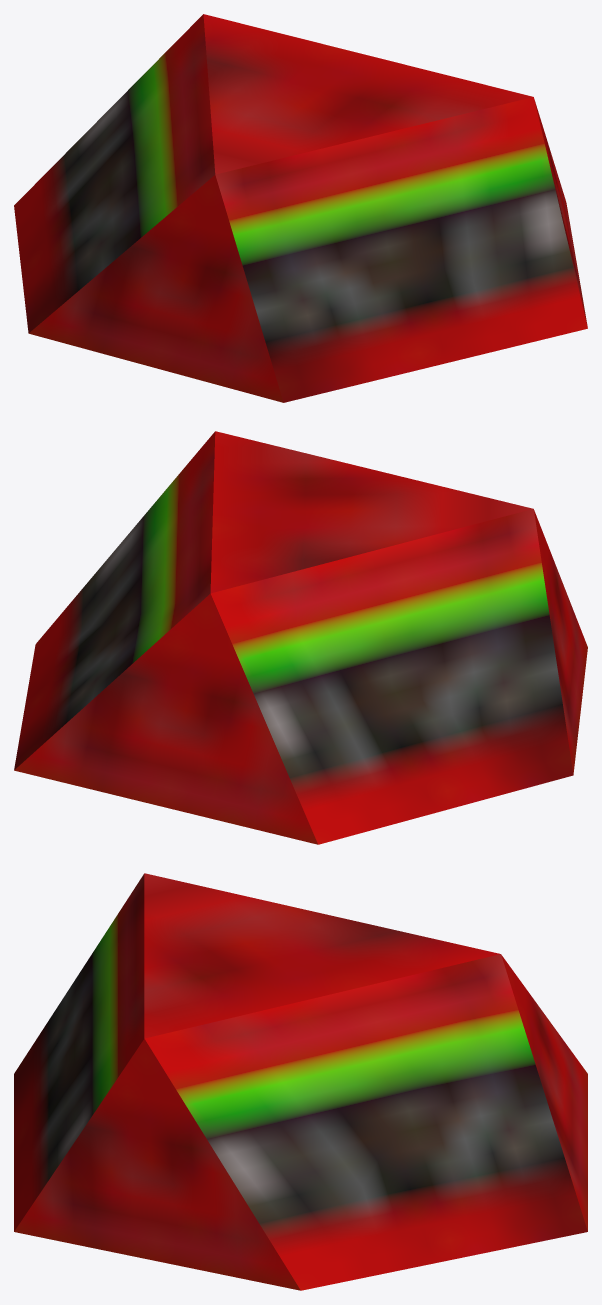
3 views of the same model, one above another, from view 1: azimuth 30°, elevation 25°; view 2: azimuth 150°, elevation 25°; view 3: azimuth 270°, elevation 25° (orthographic). The views are drawn at different scales.
Parts seen in each view (by area): view 1: root; view 2: root; view 3: root.
Part boxes in pixels (x1,y1,x2,y2): root: (14, 14, 587, 402); root: (14, 431, 587, 844); root: (14, 873, 587, 1290).
Size of the model in its own units: 0.1484 by 0.0488 by 0.1289.
1 material, 1 textured.
